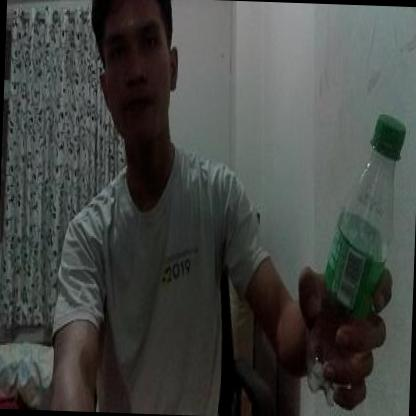plastic_bottles: (301, 118, 405, 408)
